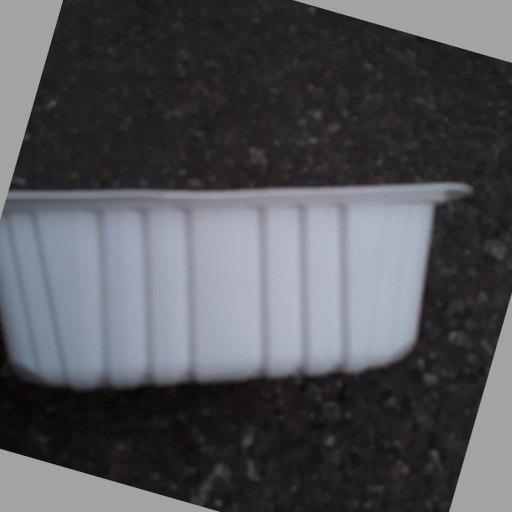Plastic_4: (2, 171, 474, 393)
